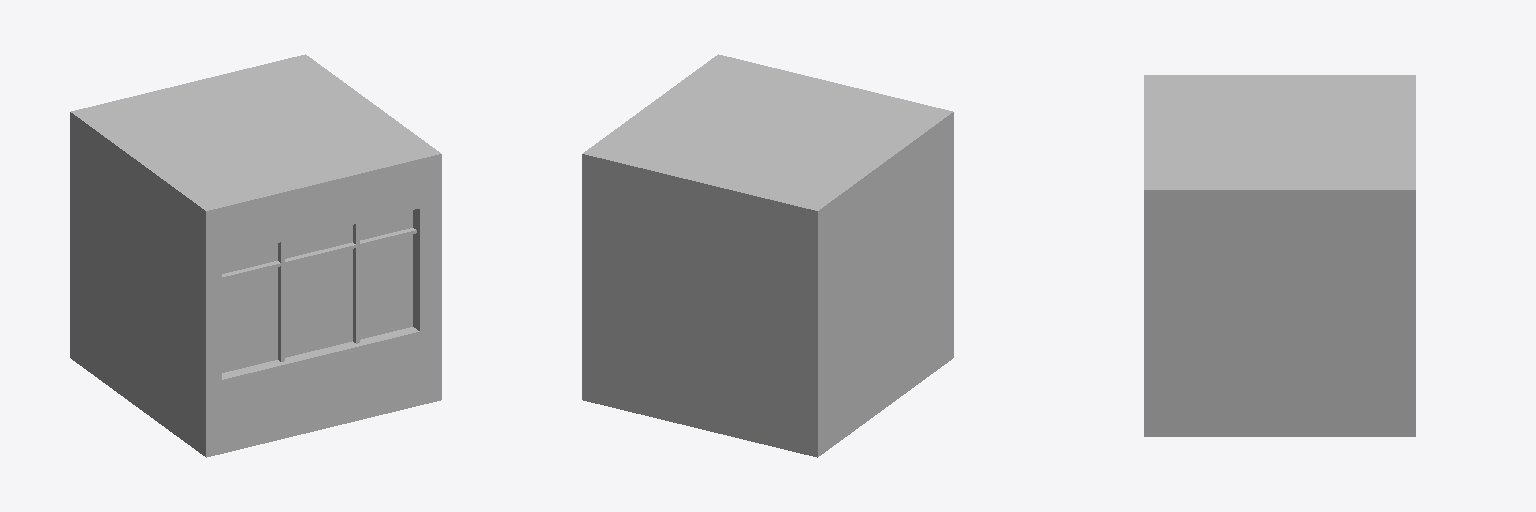
File: tsimpoukh-wall.001.obj
3 renders of one model, left to right at view 1: azimuth 30°, elevation 25°; view 2: azimuth 150°, elevation 25°; view 3: azimuth 270°, elevation 25°, orthographic.
Parts seen in each view (by area): view 1: tsimpoukh-wall.001; view 2: tsimpoukh-wall.001; view 3: tsimpoukh-wall.001.
Boxes of the visible parts, box(x1,y1,x2,y2) form: tsimpoukh-wall.001: box(70, 54, 441, 457); tsimpoukh-wall.001: box(582, 54, 953, 457); tsimpoukh-wall.001: box(1144, 75, 1415, 436).
Size of the model in its own units: 3 by 3 by 3.